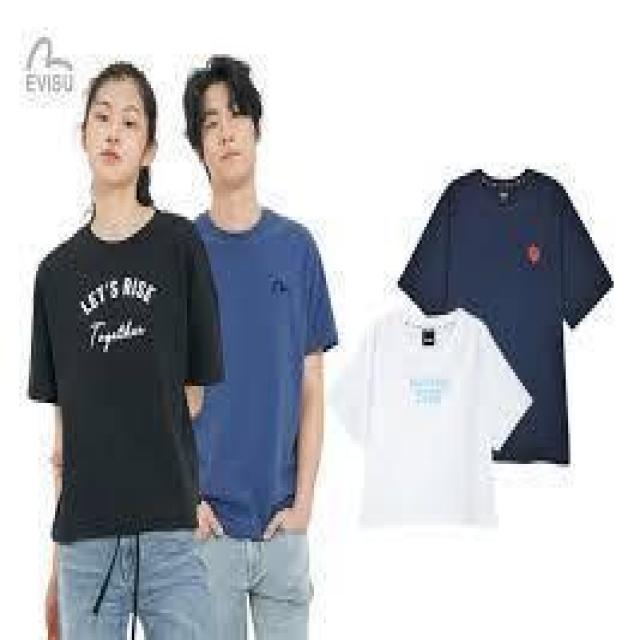Tshirt: (26, 205, 235, 554), (398, 165, 614, 472), (185, 202, 338, 544), (323, 303, 538, 533)
